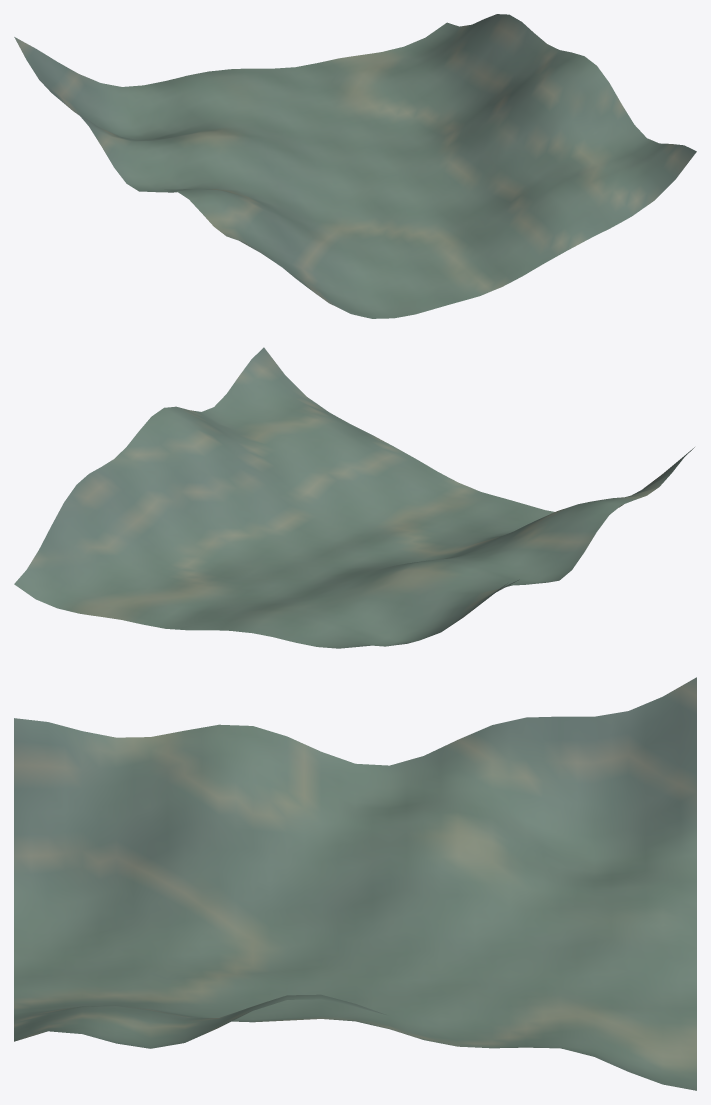
The model's file is ridge_-1_2.glb.
3 renders of one model, top to bottom at view 1: azimuth 30°, elevation 25°; view 2: azimuth 150°, elevation 25°; view 3: azimuth 270°, elevation 25°, orthographic. The views are drawn at different scales.
Bounding box in the file's own units: 220 × 64.03 × 220.
